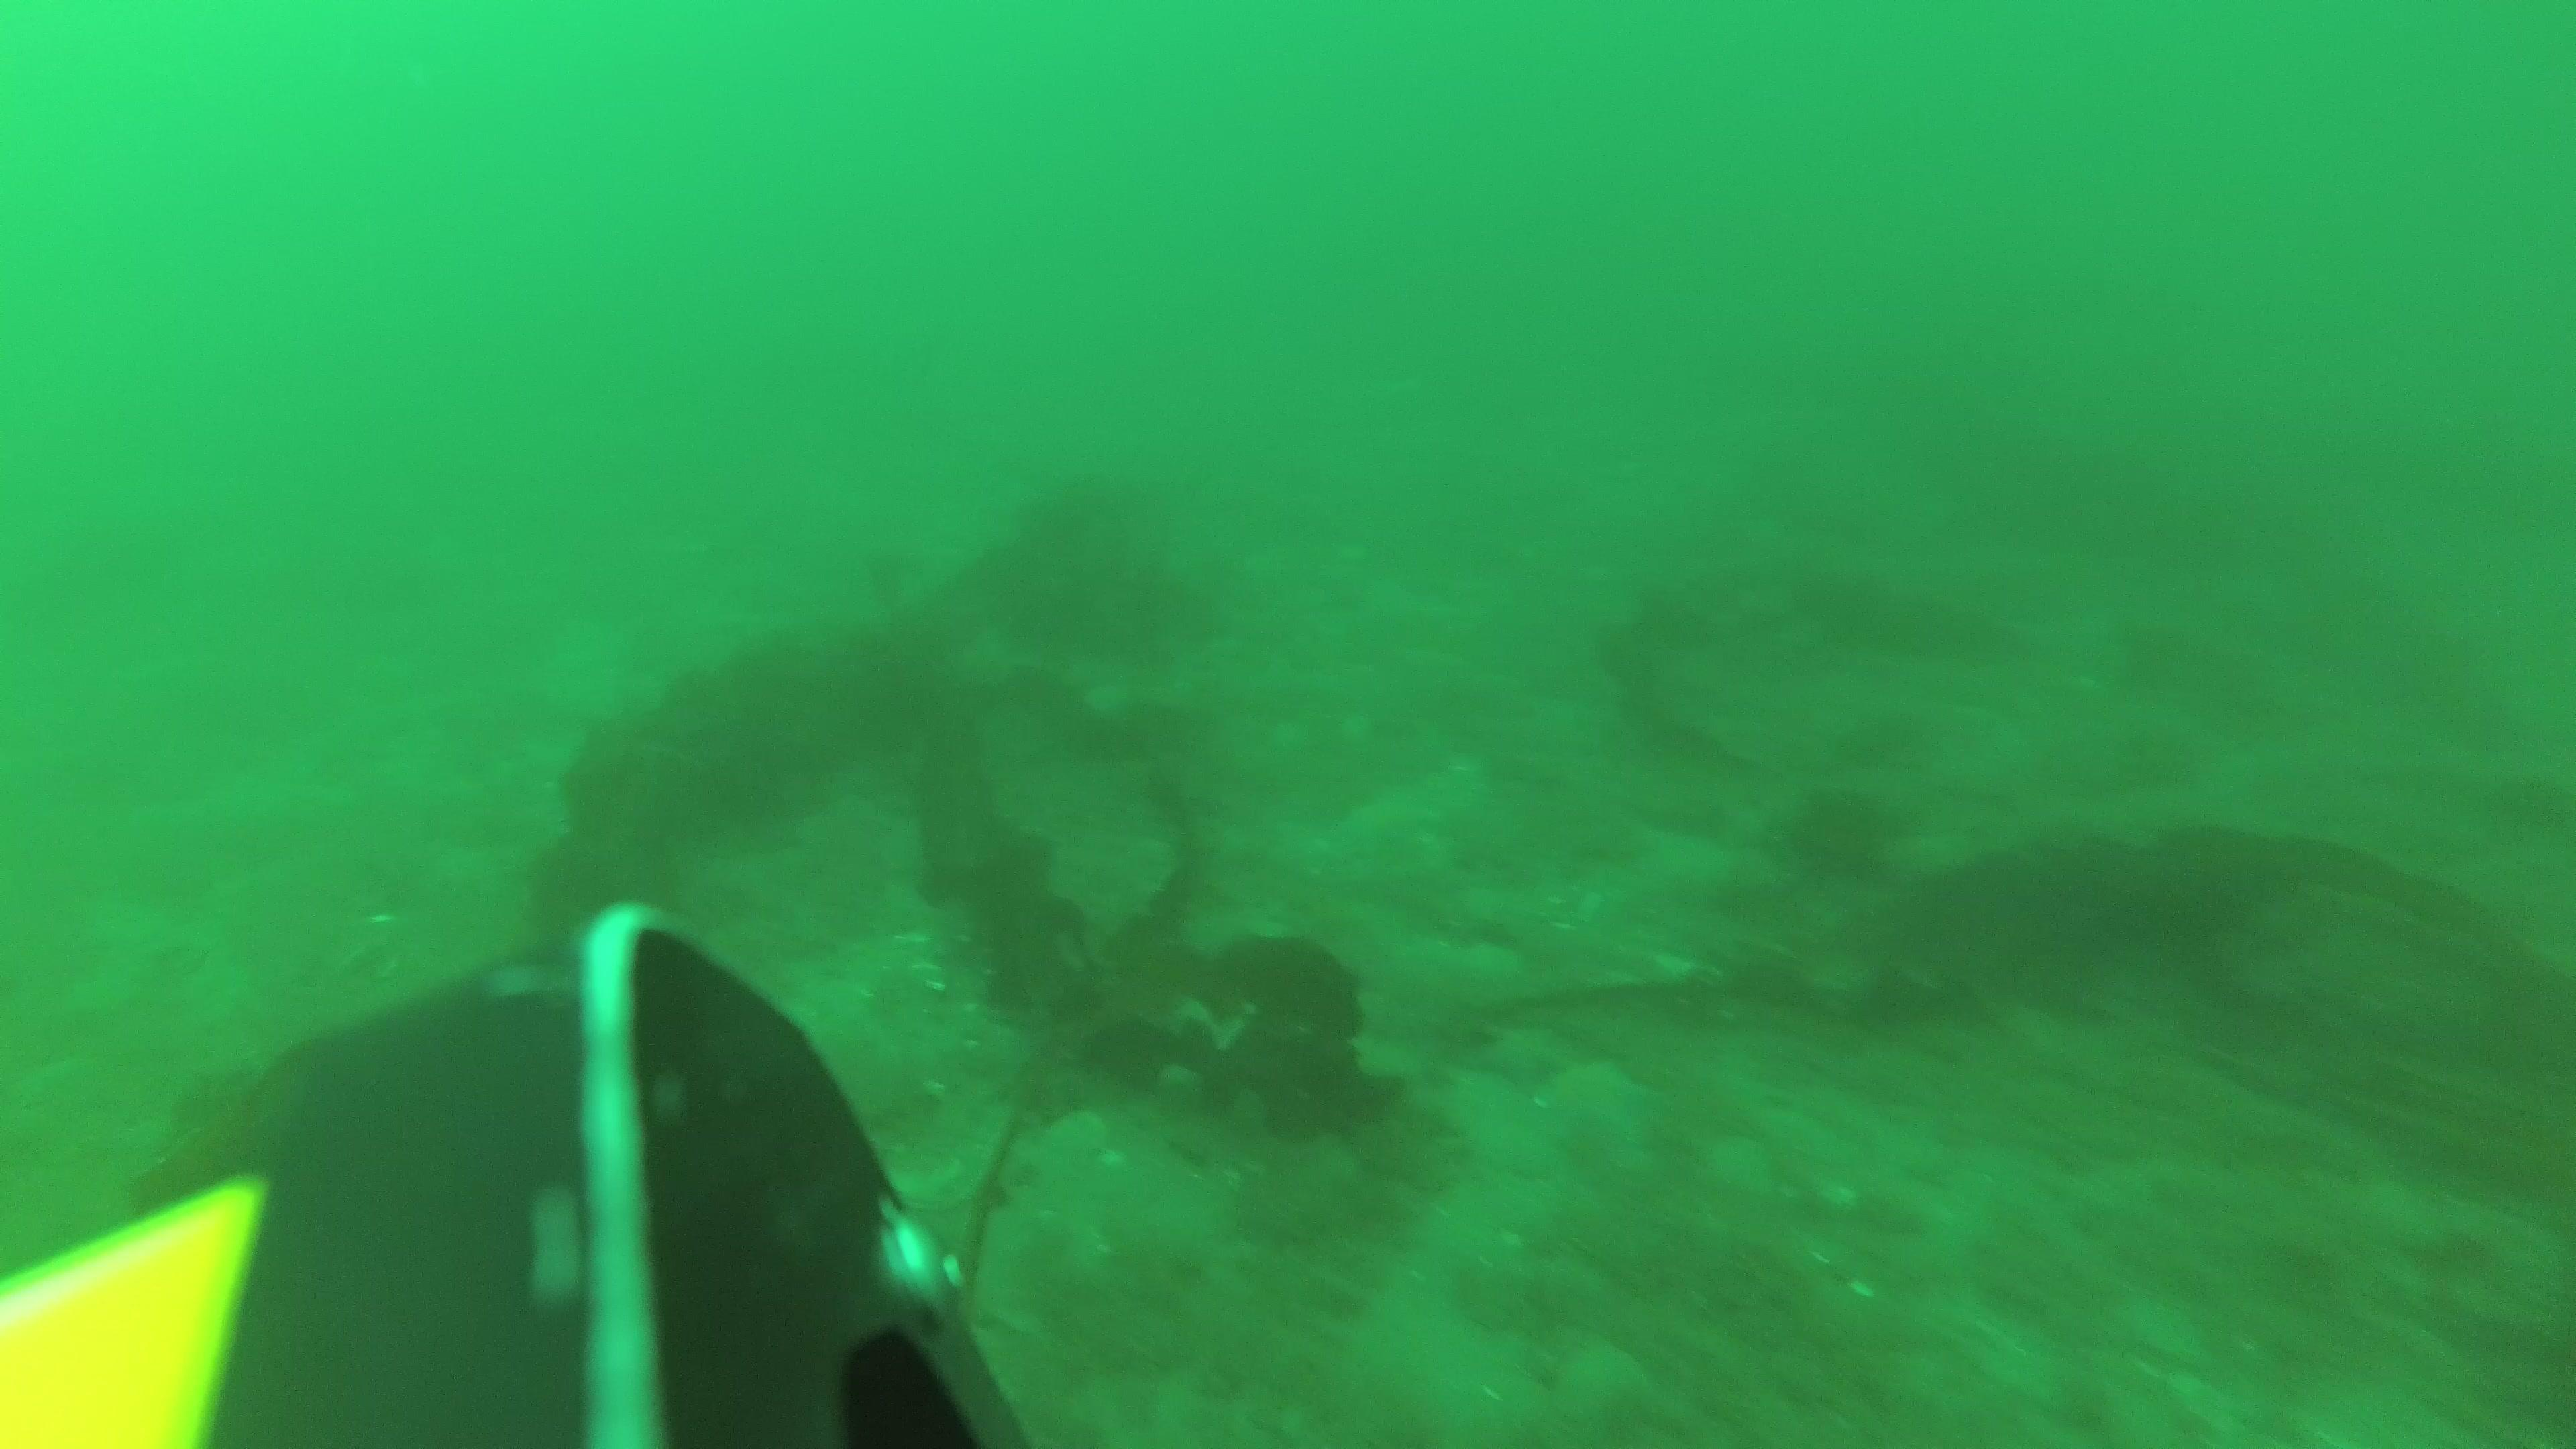scallop: (1555, 1336, 1654, 1419), (879, 1139, 982, 1214), (1040, 1104, 1118, 1169), (1704, 1134, 1778, 1200), (1748, 1097, 1826, 1155)
starfish: (1543, 1053, 1654, 1150), (1465, 1014, 1575, 1095)
